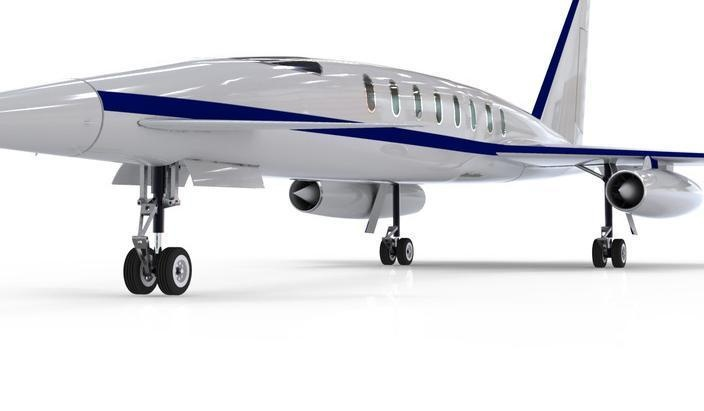airplane: (1, 5, 704, 292)
